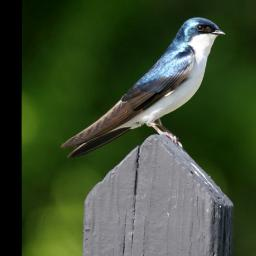Swallow: (59, 17, 226, 160)
